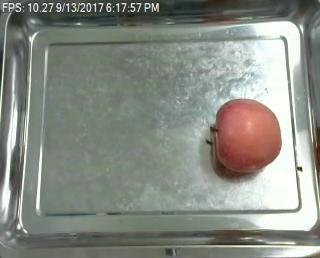apple: (213, 98, 281, 174)
